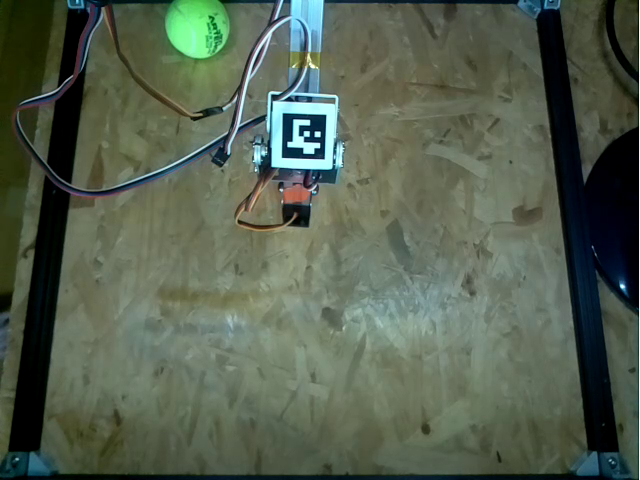tennis_ball: (164, 1, 230, 59)
